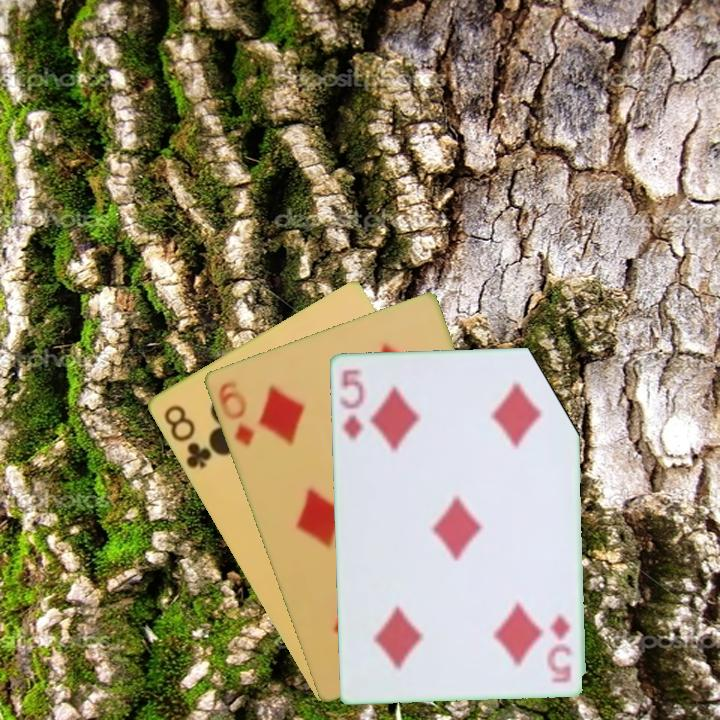5d: (336, 365, 366, 442), (546, 608, 575, 685)
6d: (214, 377, 257, 449)
8c: (159, 401, 214, 472)
